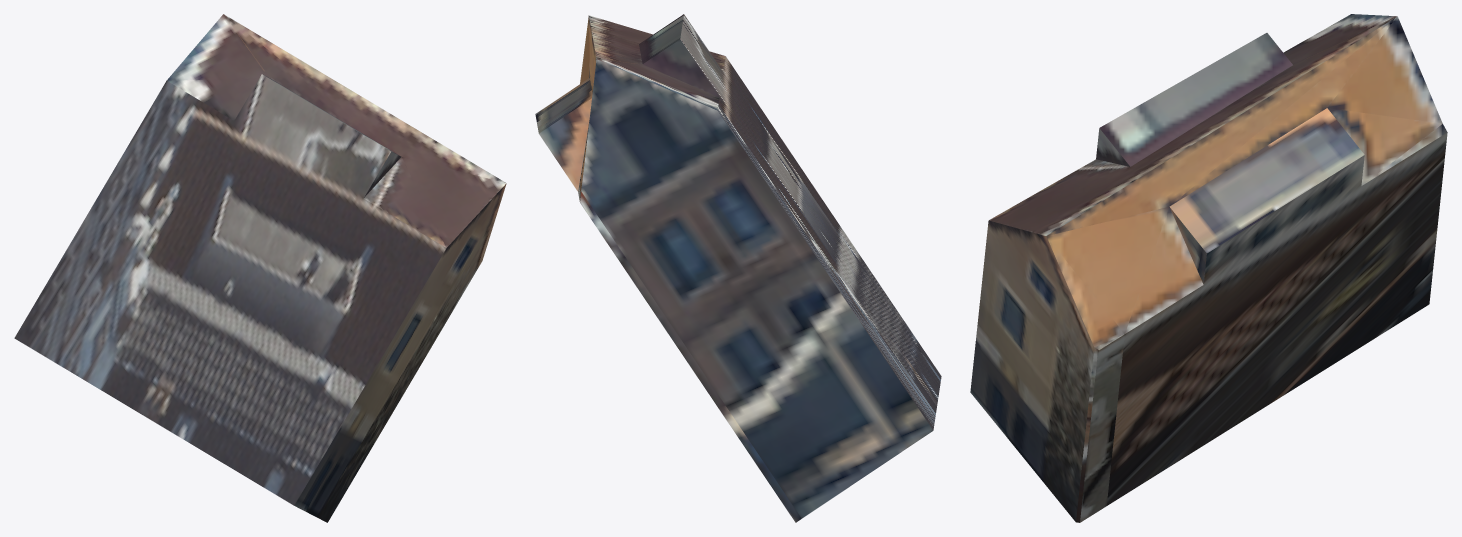
3 renders of one model, left to right at view 1: azimuth 30°, elevation 25°; view 2: azimuth 150°, elevation 25°; view 3: azimuth 270°, elevation 25°, orthographic. The views are drawn at different scales.
Parts seen in each view (by area): view 1: BAG_0599100010033192 (×4); view 2: BAG_0599100010033192 (×5); view 3: BAG_0599100010033192 (×6).
Part boxes in pixels (box(x1,y1,x2,y2)): BAG_0599100010033192 (×4): box(14, 14, 506, 522); BAG_0599100010033192 (×5): box(535, 14, 941, 522); BAG_0599100010033192 (×6): box(970, 14, 1447, 522).
Bounding box in the file's own units: 13.99 × 14.48 × 12.03.
Materials: 1 (1 with a texture image).
